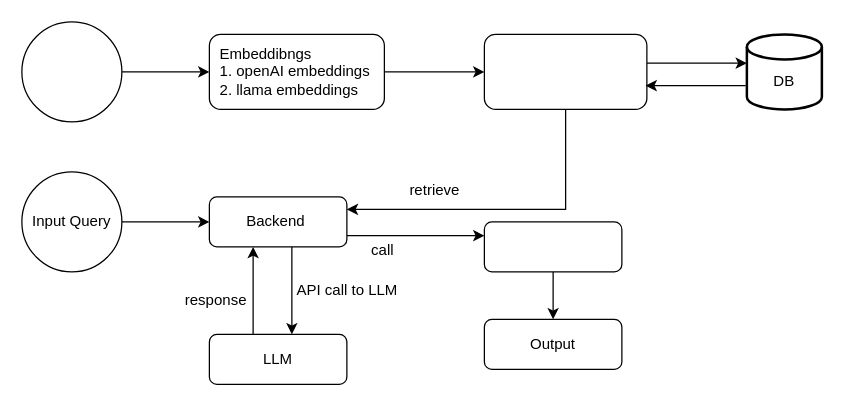
The diagram is 845 pixels wide and 406 high, and some of its shapes have lost their labels. Here are the shapes that lost their labels. From the top down, the centre of each, then its label:
At (71,71): "Data (Documents)".
At (565,71): "Knowledge Base 1. FAISS vector Store 2. VectorDB".
At (552,246): "Similiarity Search".
